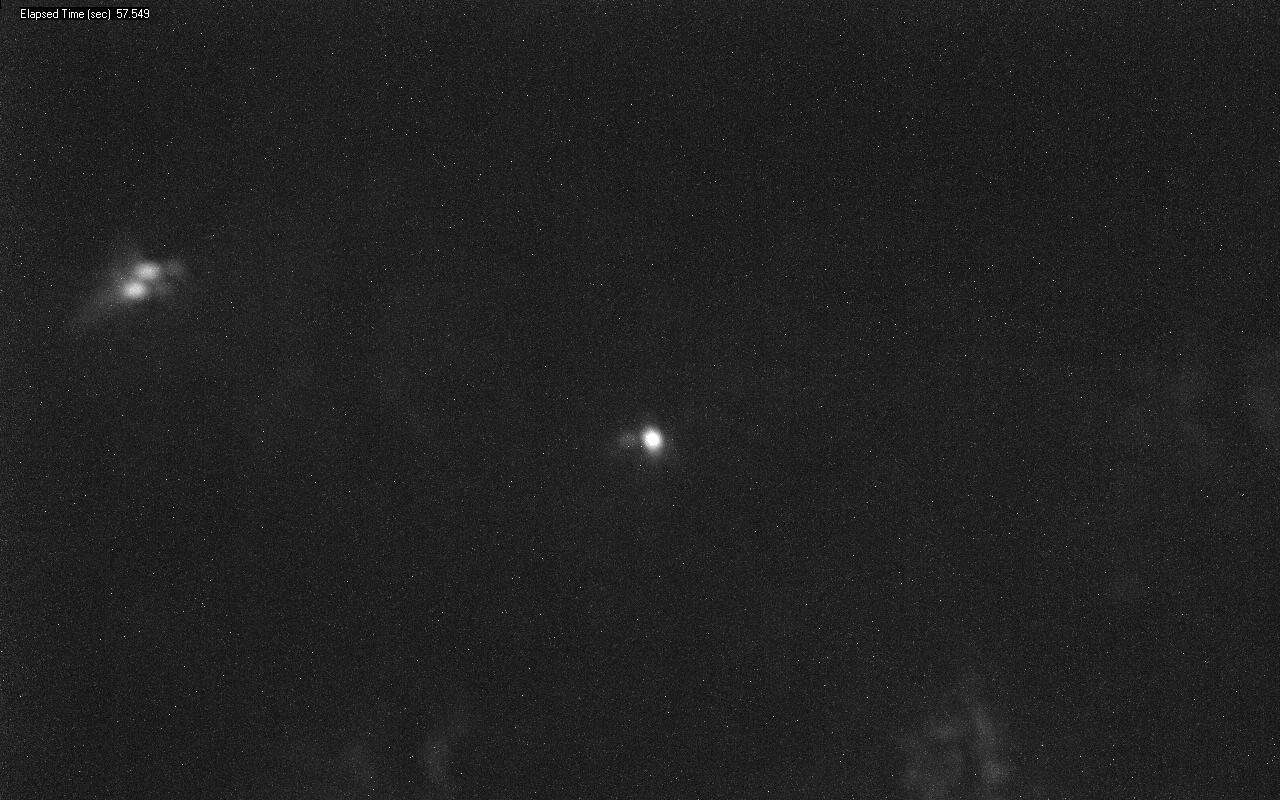Bead: (644, 429, 661, 449)
